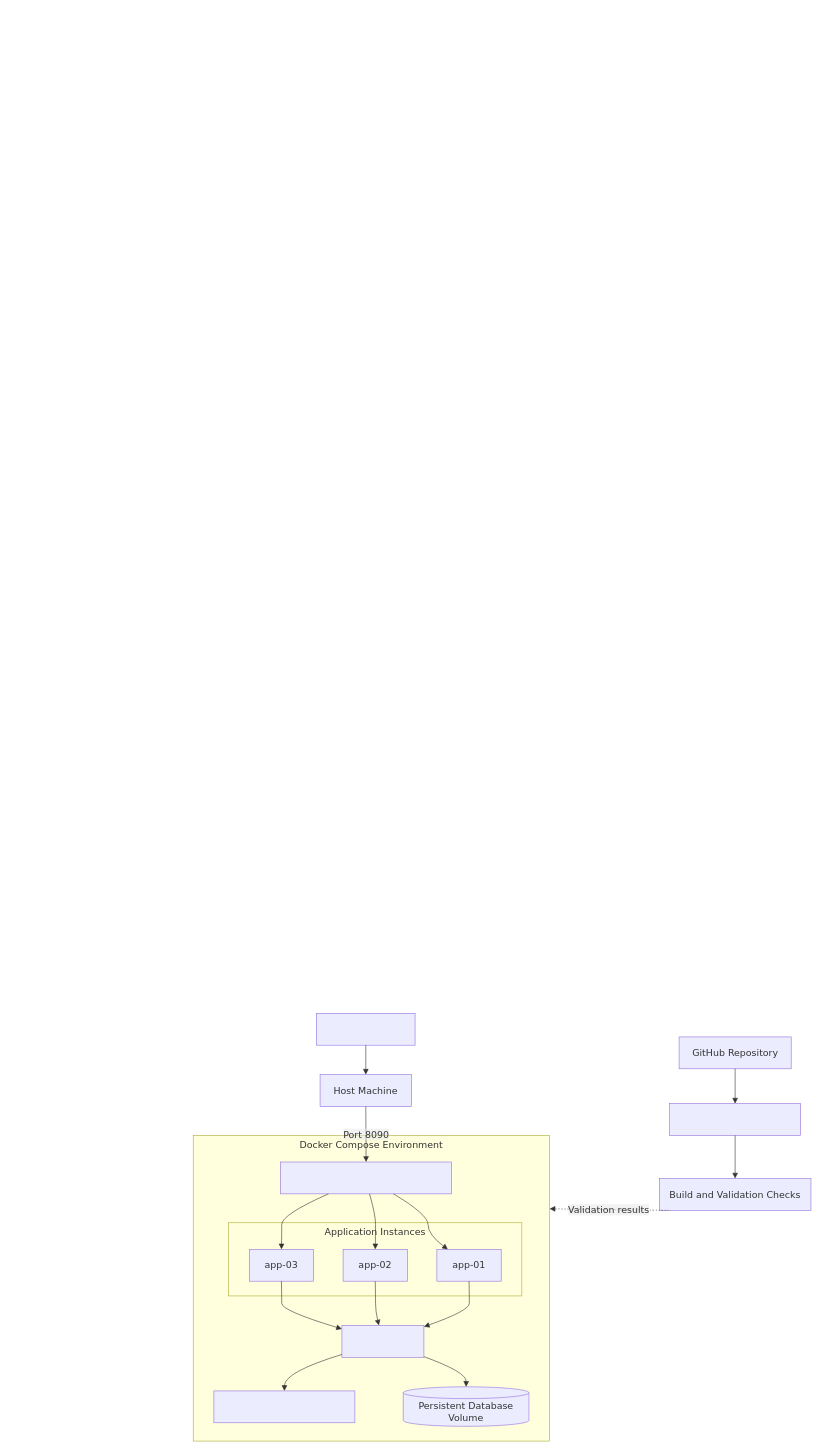
Image size: 821x1451. Some labels were removed from this diagram. The centre of each missing label's shape, as x and y in pixels:
"Application Entry Point / Router" belongs at (x=366, y=1177).
"CI Validation Workflow" belongs at (x=735, y=1119).
"Database Backup Process" belongs at (x=284, y=1406).
"PostgreSQL" belongs at (x=382, y=1341).
"User / Browser" belongs at (x=365, y=1029).
